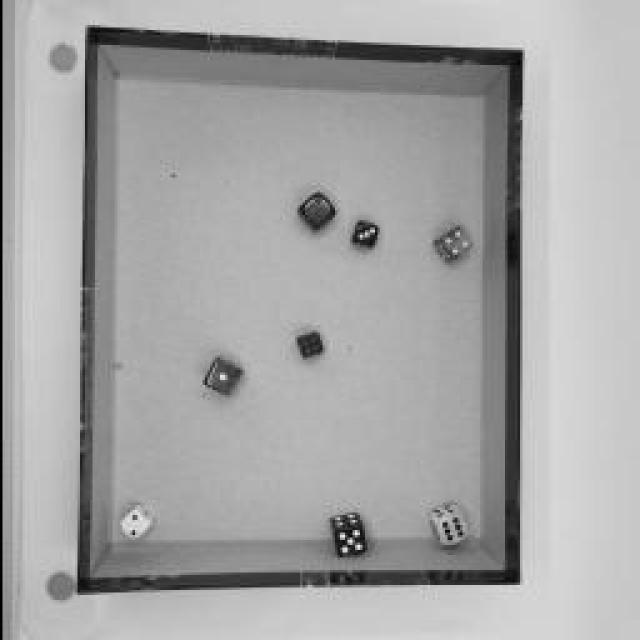dice_1: (198, 354, 242, 398)
dice_2: (292, 192, 332, 232), (115, 505, 155, 540)
dice_3: (348, 218, 378, 252)
dice_4: (430, 226, 470, 266), (291, 330, 321, 360)
dice_5: (325, 514, 365, 558)
dice_6: (425, 505, 465, 545)
